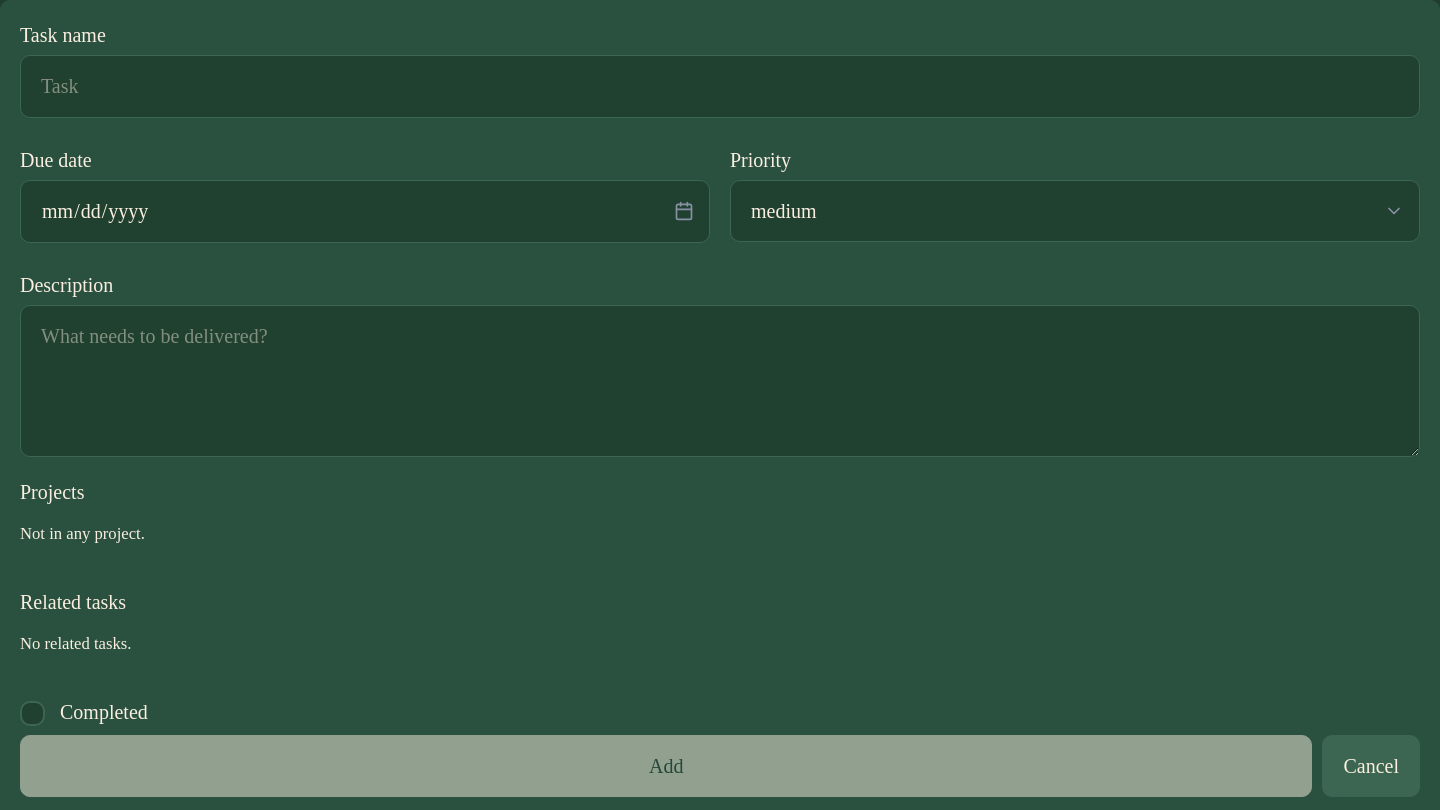
Test: TaskForm for a new task › only allows adding once the task has a name
Expected: the button "Add" is disabled, [20,734,1312,796]
Type "Write report" into the field with placeholder "Task".
click(720, 86); type("Write report")  # box [20,55,1420,118]
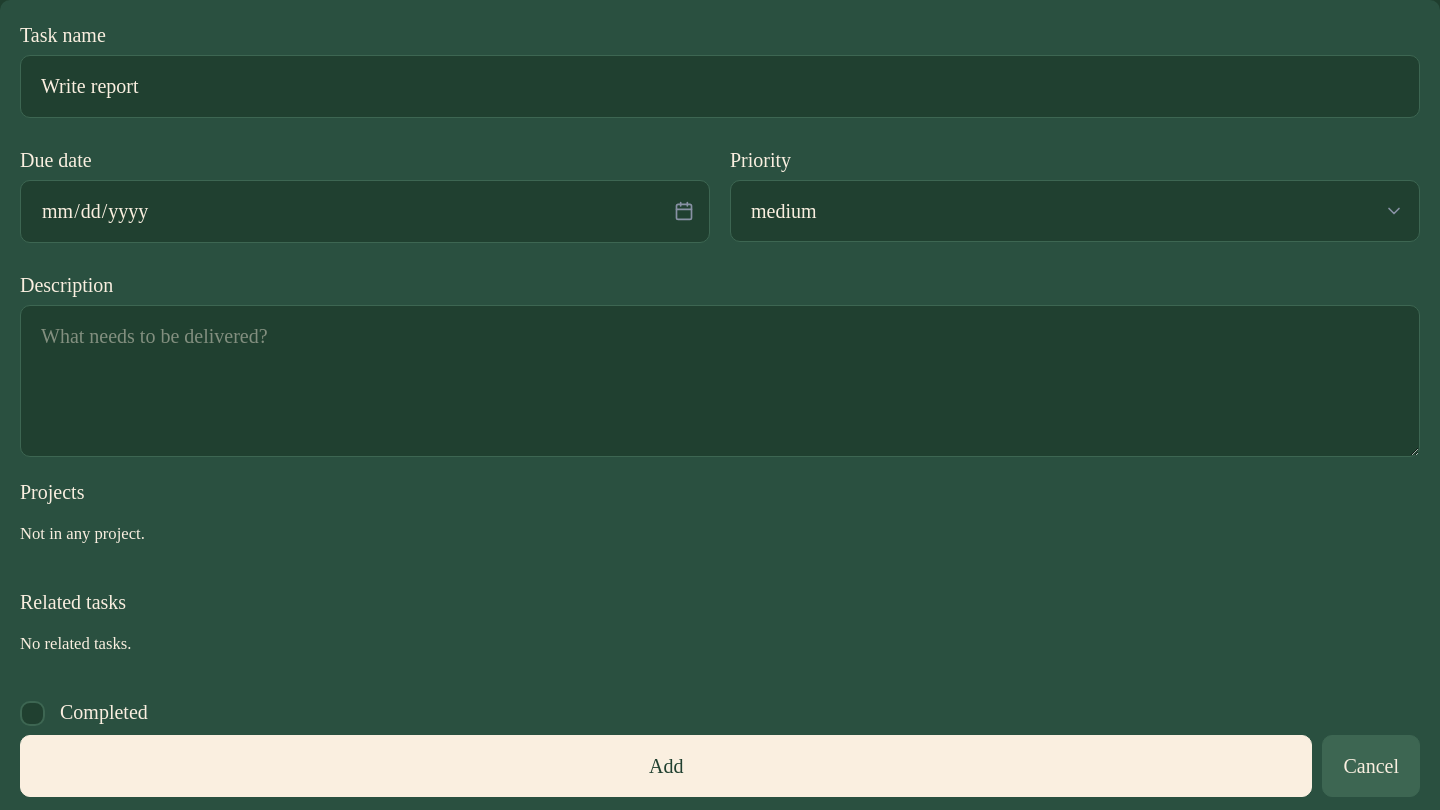
Expected: the button "Add" is enabled, [20,734,1312,796]
